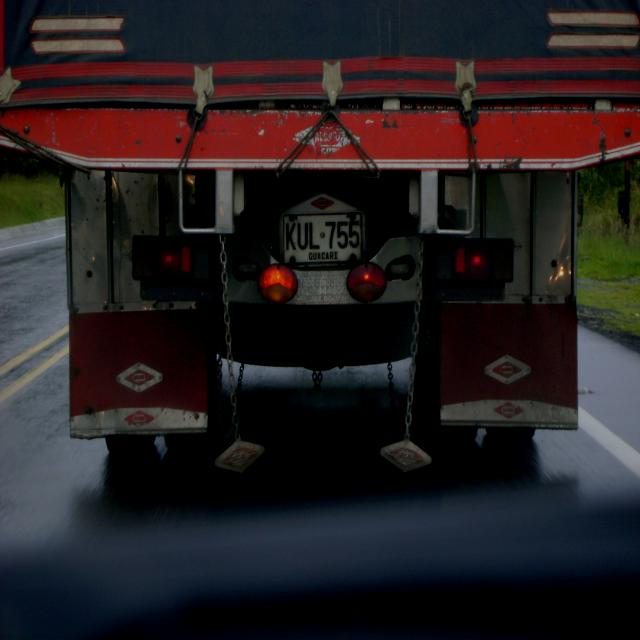placa: (278, 207, 371, 270)
